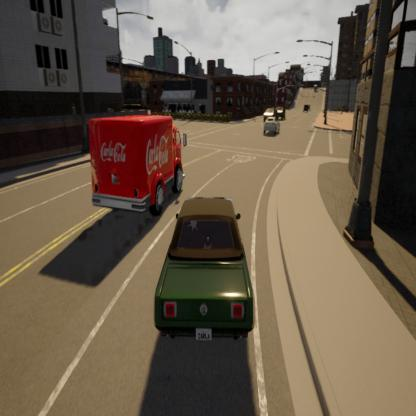Cars: (154, 197, 256, 347), (89, 117, 185, 220), (262, 121, 281, 136), (264, 105, 276, 120), (277, 105, 286, 121), (302, 101, 311, 115)
